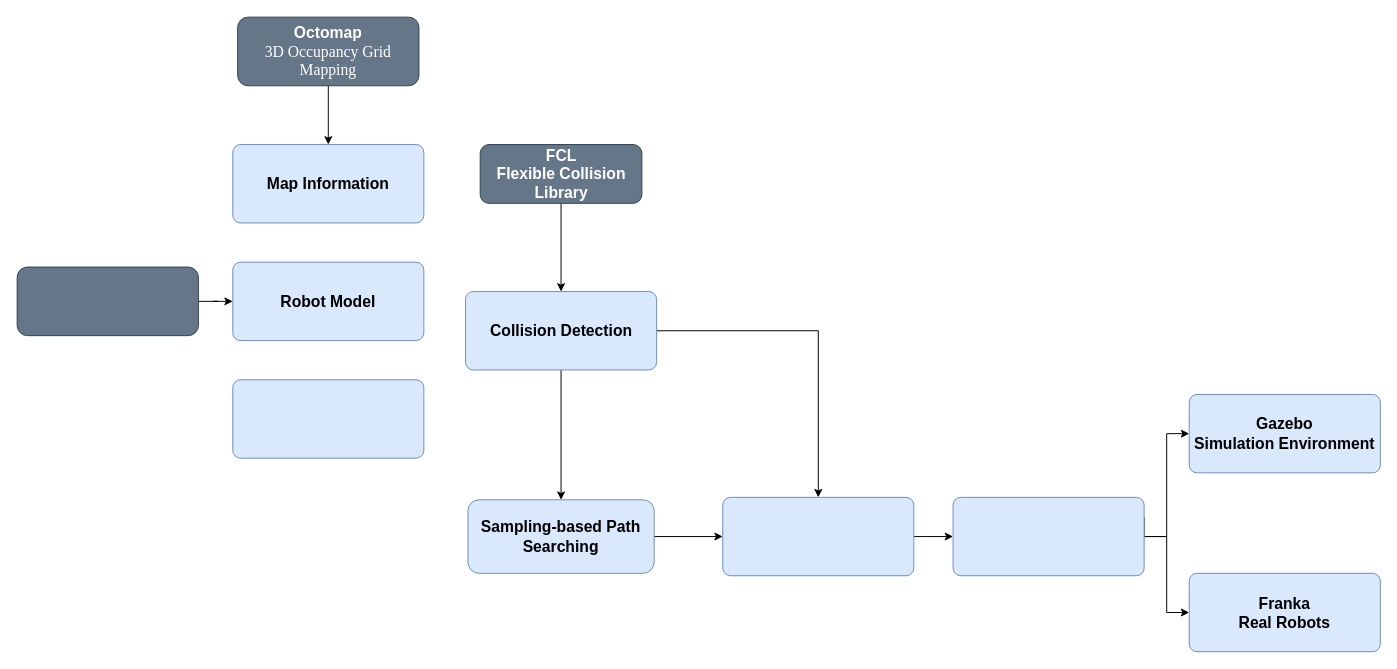
Some shapes in this 1397 by 669 pixel diagram are drawn without their labels. Each missing label, with the box of its shape:
Joint Impedance Control: (952, 496, 1144, 576)
Joint States: (232, 379, 424, 458)
Real Time Optimization-based Trajectory Generation: (722, 496, 914, 576)
URDF File 3D Occupancy Grid Mapping: (16, 266, 198, 336)
